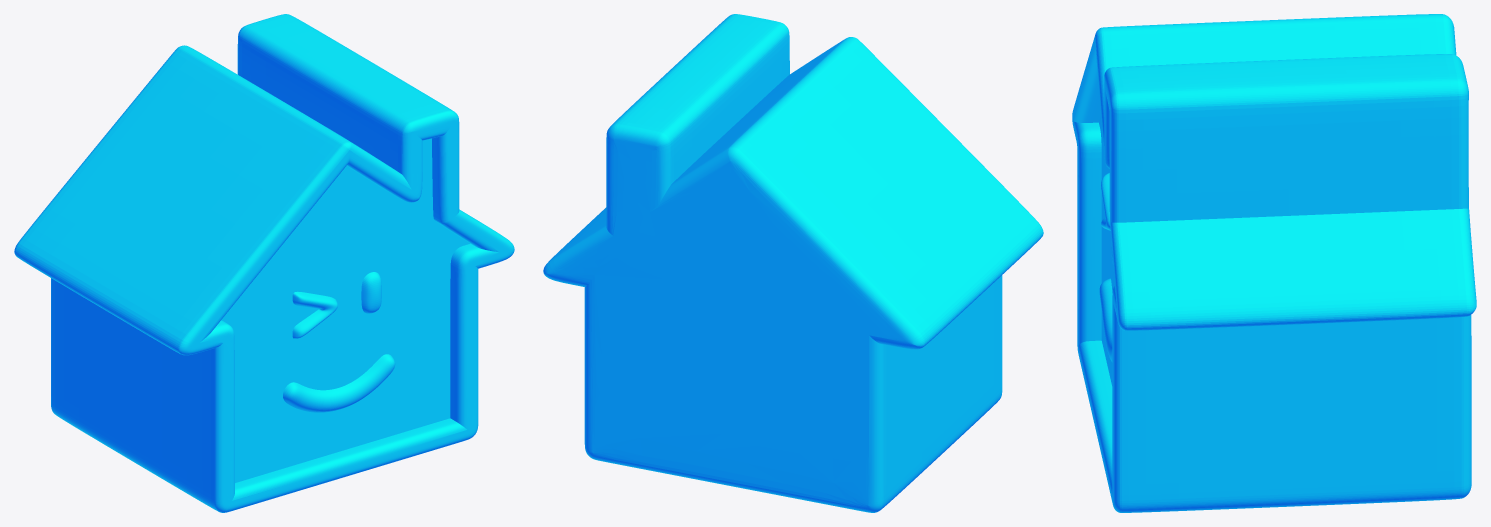
The model's file is frensHouse_chrome.glb.
3 views of the same model, side by side, from view 1: azimuth 30°, elevation 25°; view 2: azimuth 150°, elevation 25°; view 3: azimuth 270°, elevation 25° (orthographic). The views are drawn at different scales.
Visible parts, largest first — view 1: House; view 2: House; view 3: House.
Boxes of the visible parts, x1=… form: House: x1=14, y1=14, x2=514, y2=512; House: x1=543, y1=14, x2=1043, y2=512; House: x1=1072, y1=14, x2=1476, y2=512.
Bounding box in the file's own units: 2.8 × 2.38 × 2.13.
